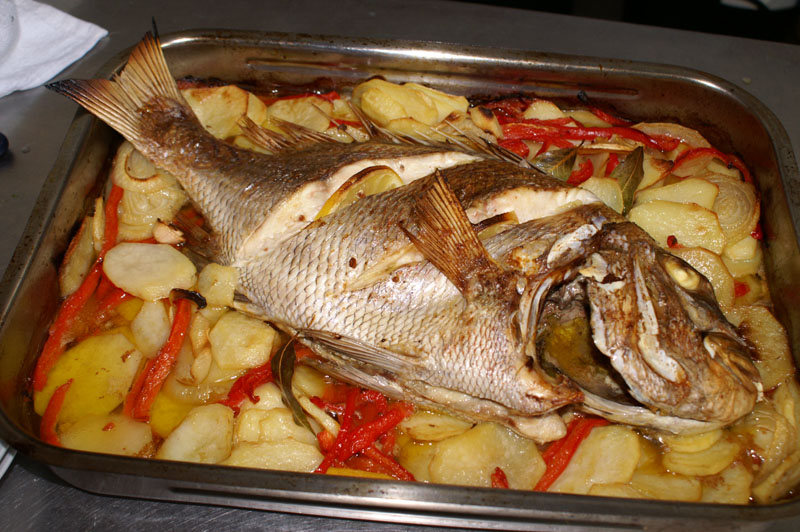fish: (36, 11, 771, 443)
